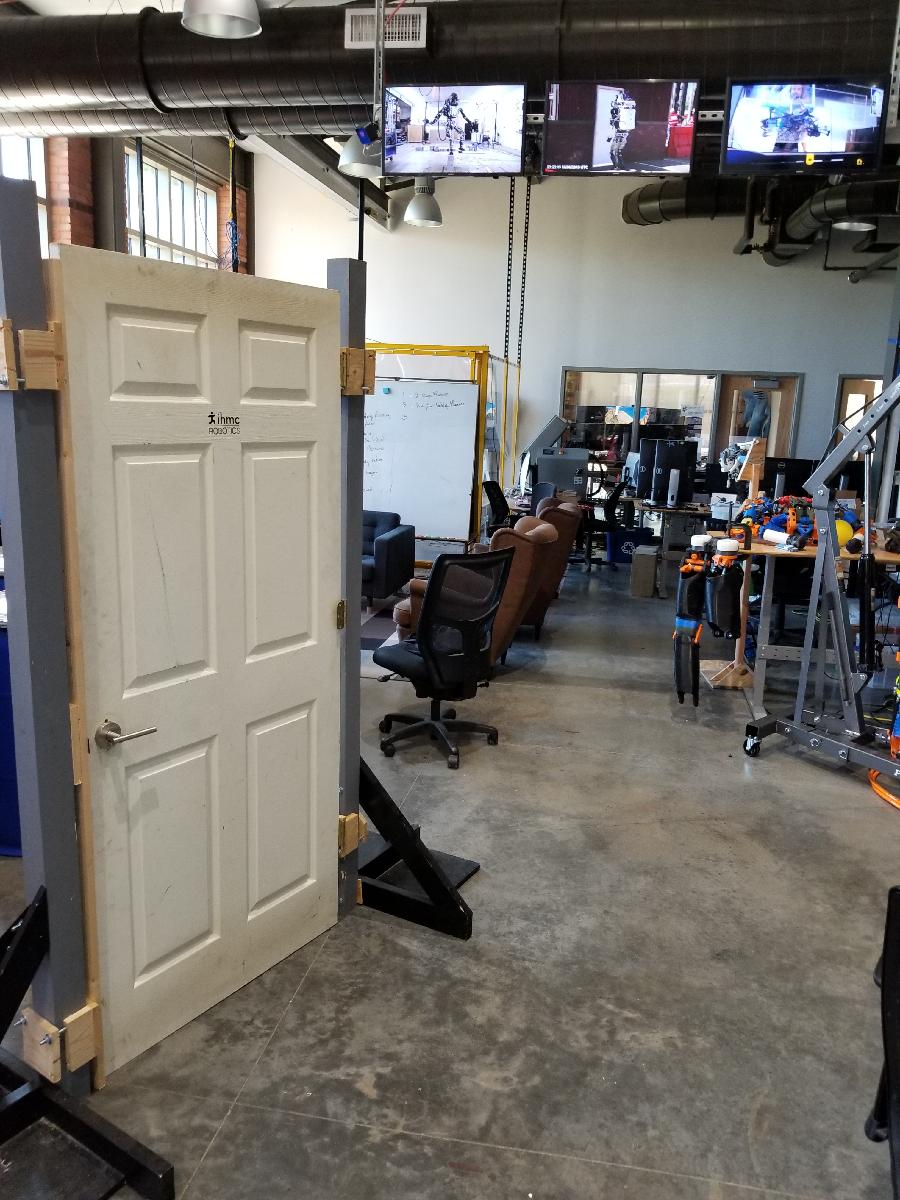door: (43, 236, 352, 1079)
doorHandle: (85, 715, 159, 754)
